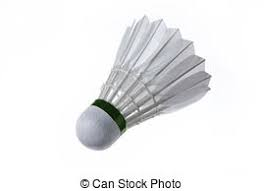shuttle: (76, 14, 215, 163)
